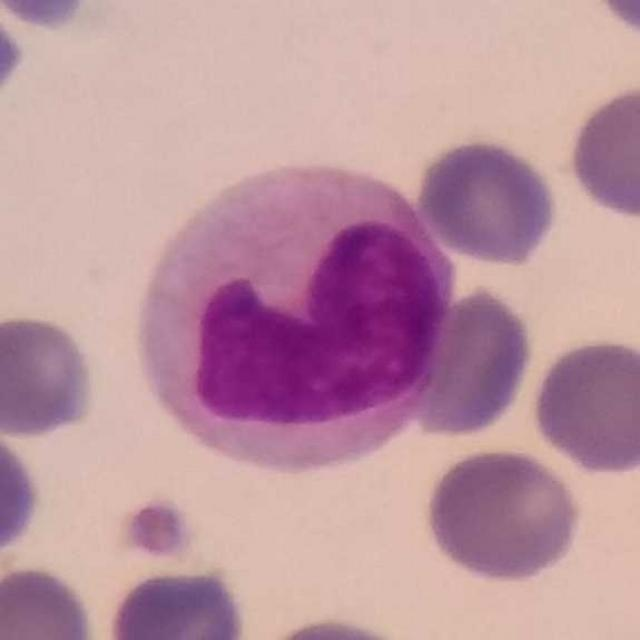mono: (134, 149, 459, 470)
